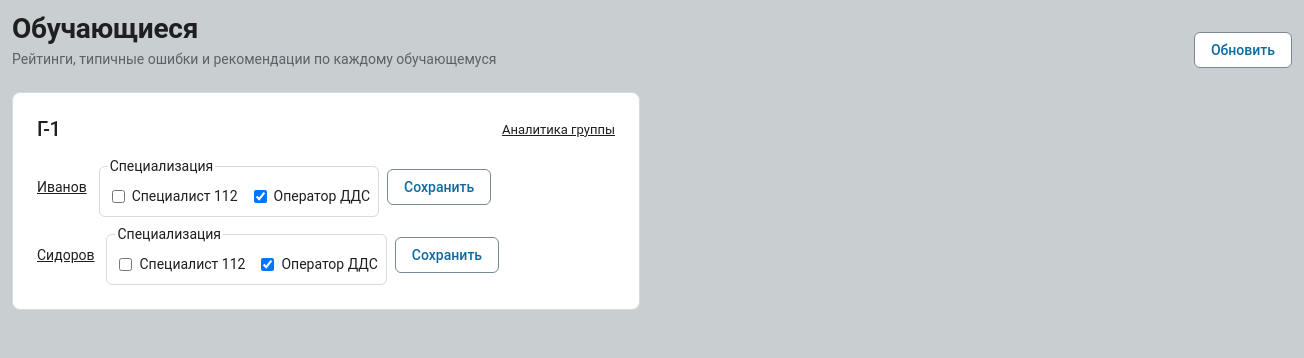
Test: страница «Обучающиеся» › позволяет изменить специализацию обучающегося своей группы
Click the checkbox labelled "Специалист 112" next to "Иванов": click(118, 196) [112,190,125,203]
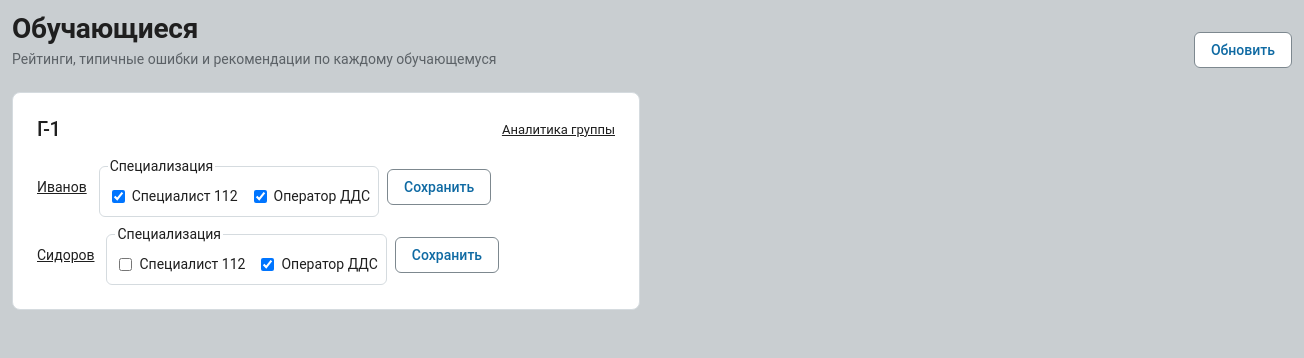
Click the button "Сохранить" in the row of "Иванов": click(439, 187) [387,169,491,205]
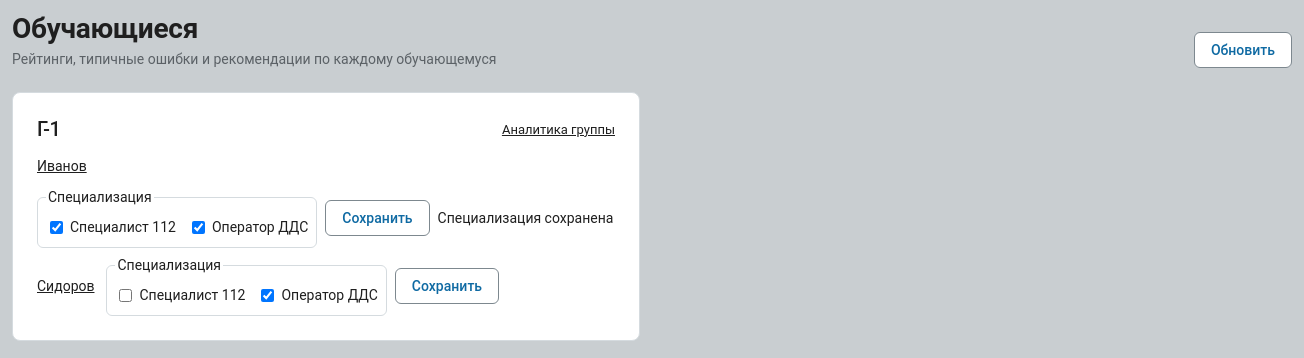
Expected: the message reads "Специализация сохранена", [438,210,613,226]
